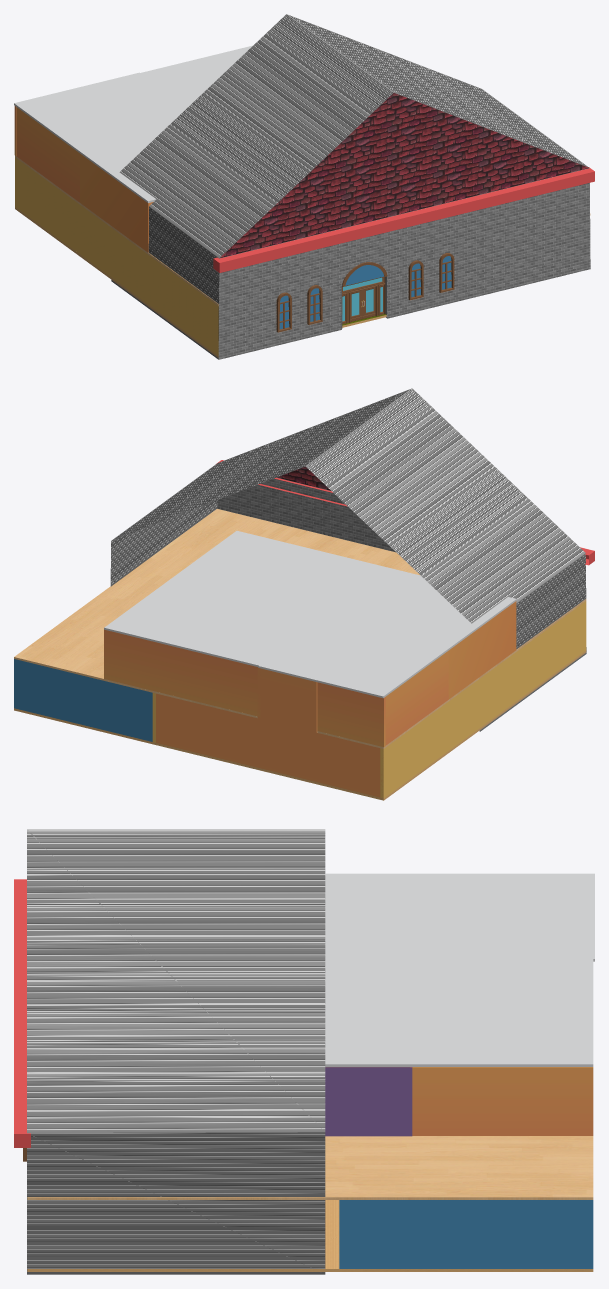
Rendered from Cat House.fbx.
3 renders of one model, top to bottom at view 1: azimuth 30°, elevation 25°; view 2: azimuth 150°, elevation 25°; view 3: azimuth 270°, elevation 25°, orthographic. The views are drawn at different scales.
Parts seen in each view (by area): view 1: out wall, Cat House.003, out wall piller, out windows; view 2: Cat House.003, out wall; view 3: out wall, Cat House.003, out wall piller.
Boxes of the visible parts, x1,y1,x2,y2 form: out wall: [111, 14, 590, 359]; Cat House.003: [14, 45, 590, 357]; out wall piller: [213, 167, 594, 272]; out windows: [276, 253, 454, 332]; Cat House.003: [14, 509, 586, 800]; out wall: [110, 388, 586, 731]; out wall: [27, 829, 325, 1274]; Cat House.003: [27, 873, 594, 1271]; out wall piller: [14, 879, 30, 1147].
Size of what is drawn, in the model's own units: 2127 by 1214 by 2051.
